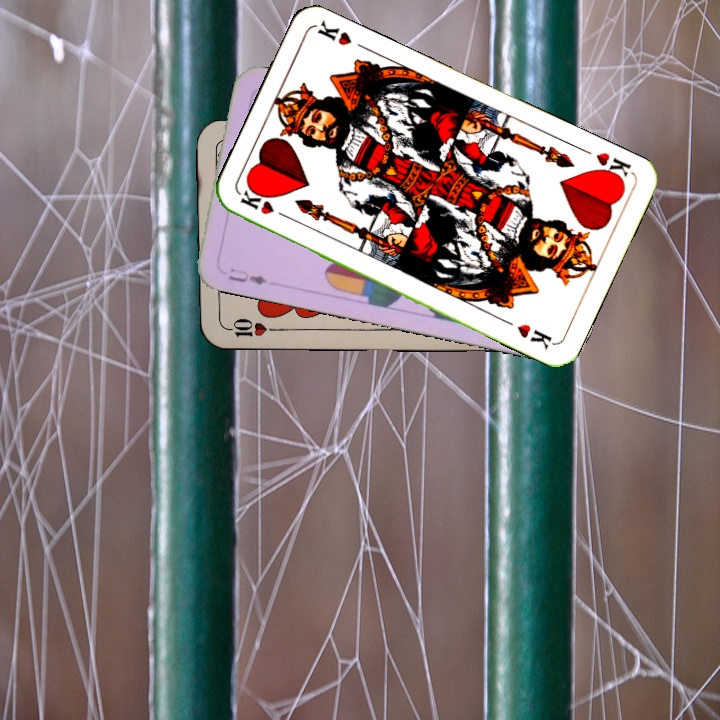EU: (224, 264, 270, 288)
H10: (219, 314, 278, 340)
HK: (236, 185, 293, 222), (590, 148, 634, 186)
